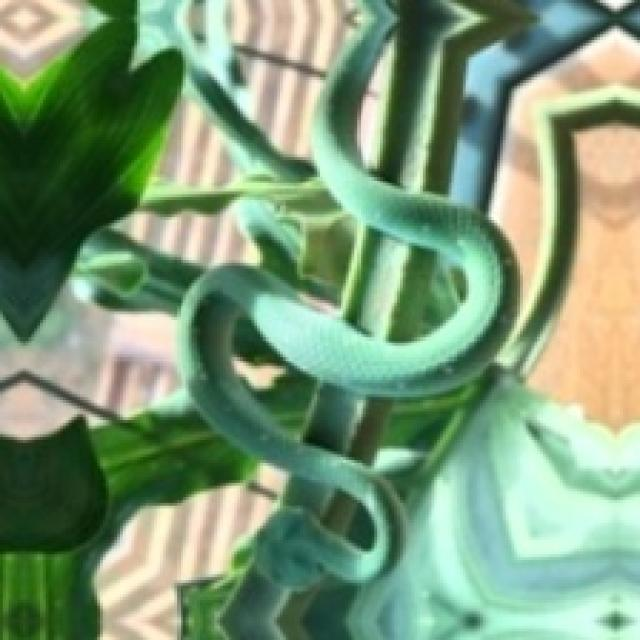north ph temple pitviper: (177, 0, 566, 637)
